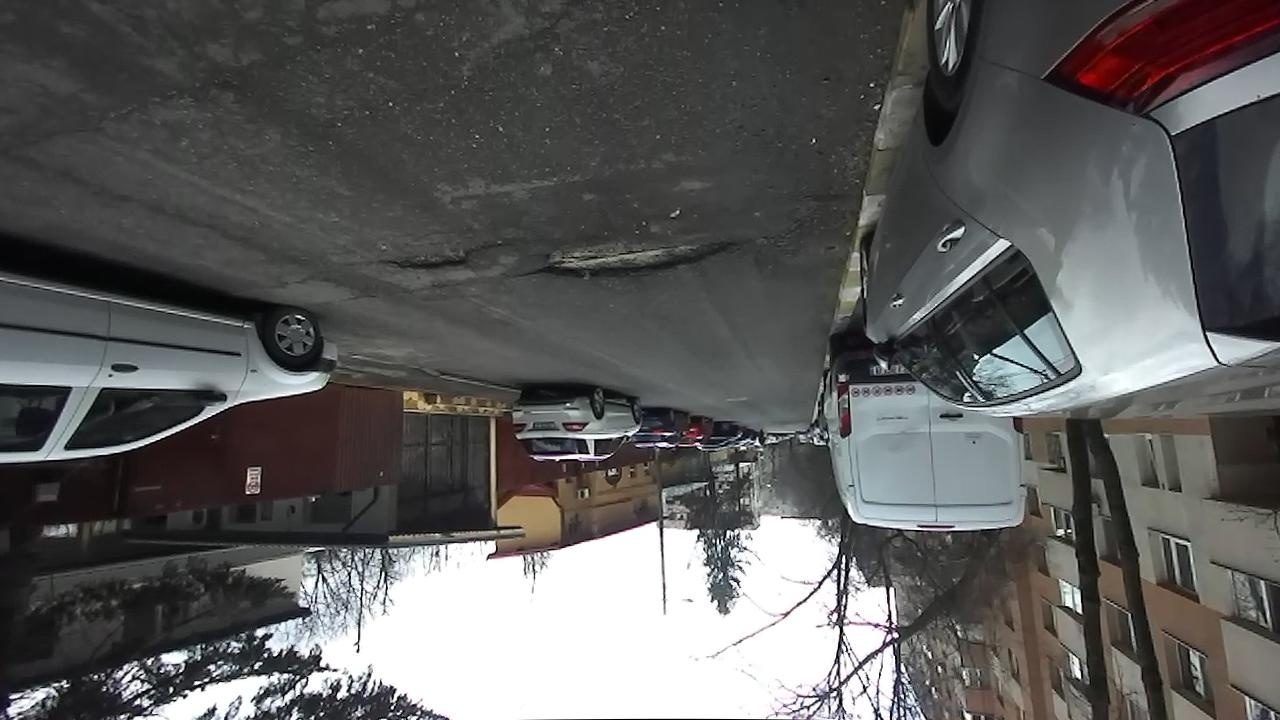pothole: (517, 232, 744, 281), (375, 240, 497, 275)
